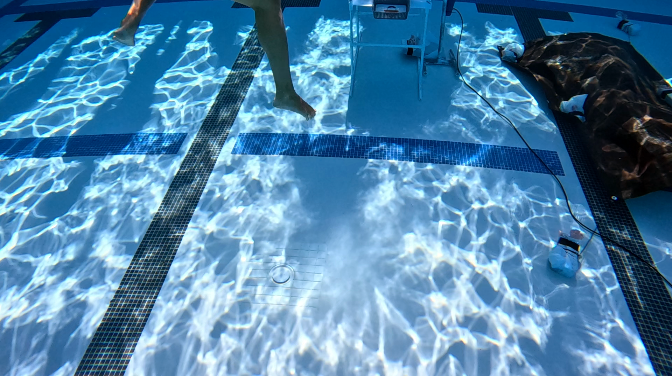pathmarker: (497, 32, 671, 193)
